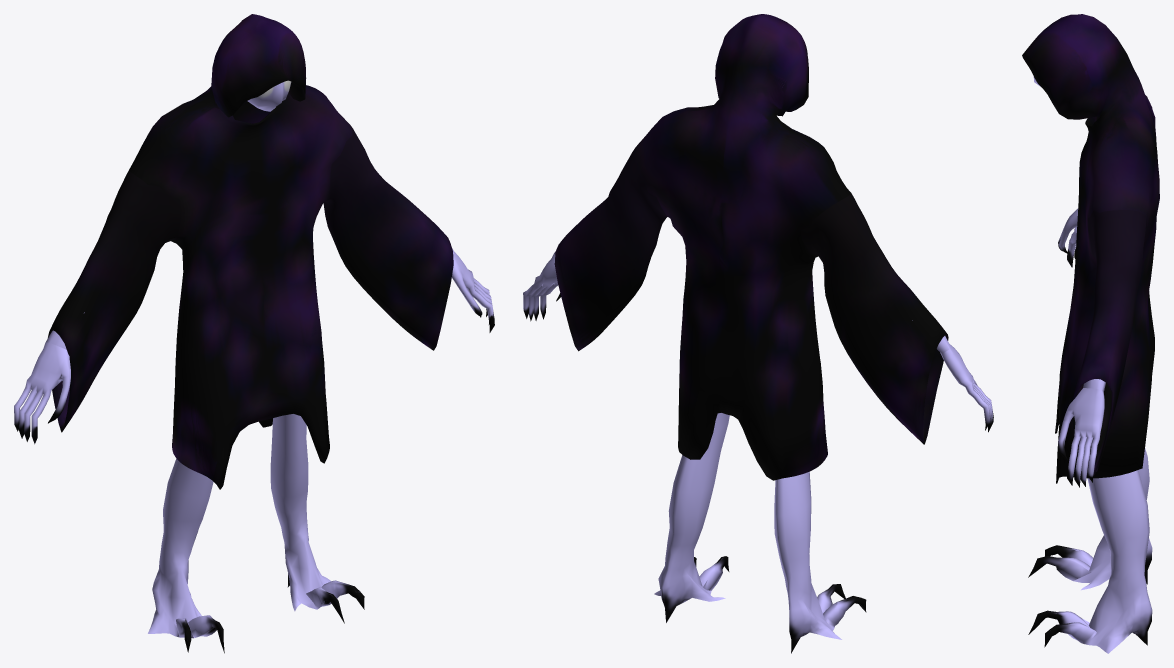
Rendered from Entity 2 Model v2.fbx.
3 views of the same model, side by side, from view 1: azimuth 30°, elevation 25°; view 2: azimuth 150°, elevation 25°; view 3: azimuth 270°, elevation 25° (orthographic). The views are drawn at different scales.
Visible parts, largest first — view 1: Cloak, Model_Cylinder; view 2: Cloak, Model_Cylinder; view 3: Cloak, Model_Cylinder.
Boxes of the visible parts, <box> form: Cloak: <box>48,14,453,489</box>; Model_Cylinder: <box>14,80,494,653</box>; Cloak: <box>554,14,948,480</box>; Model_Cylinder: <box>523,252,993,653</box>; Cloak: <box>1022,14,1159,483</box>; Model_Cylinder: <box>1028,76,1152,653</box>.
Bounding box in the file's own units: 445 × 545 × 113.
